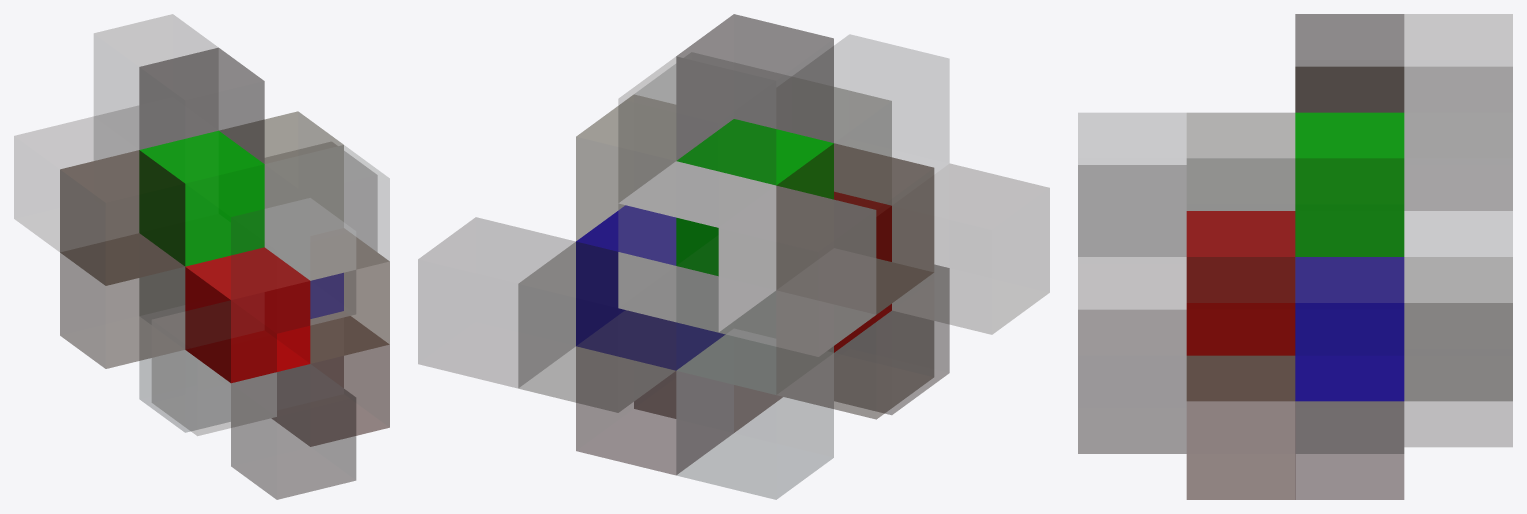
Rendered from iter_2.obj.
3 renders of one model, left to right at view 1: azimuth 30°, elevation 25°; view 2: azimuth 150°, elevation 25°; view 3: azimuth 270°, elevation 25°, orthographic. The views are drawn at different scales.
Visible parts, largest first — view 1: iter_2; view 2: iter_2; view 3: iter_2.
Part boxes in pixels (x1,y1,x2,y2): iter_2: (14,14,389,499); iter_2: (418,14,1049,499); iter_2: (1078,14,1512,499).
Size of the model in its own units: 0.4 by 0.4 by 0.4.
